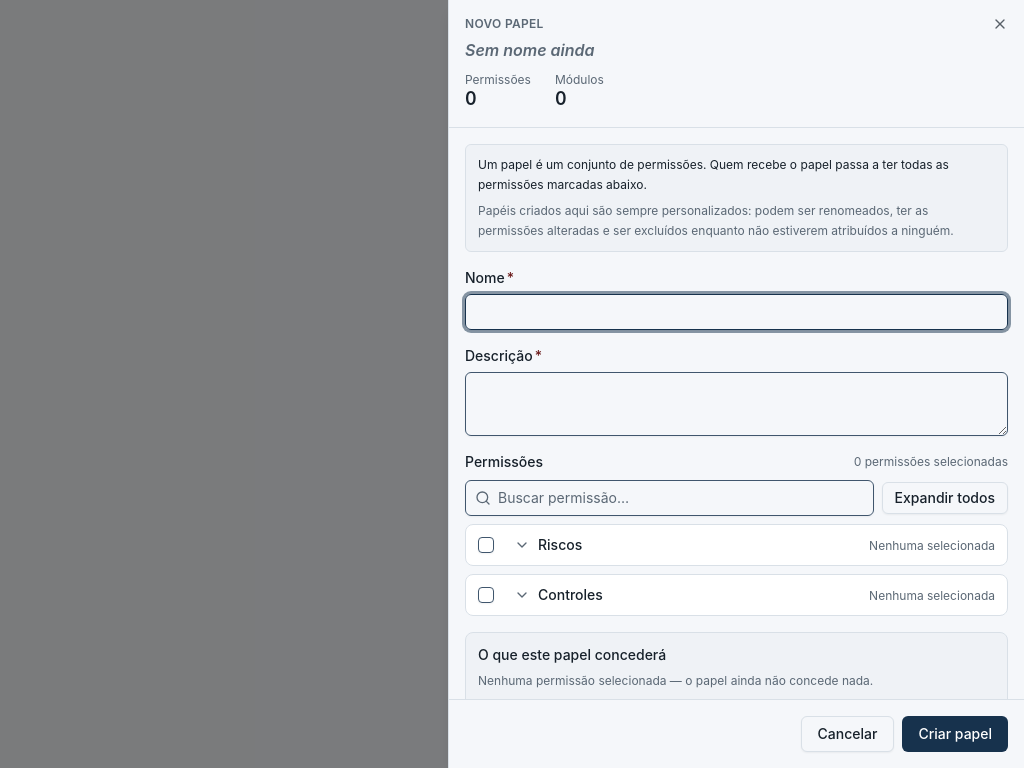
Test case: RoleCreatePanel — submitting › never blames the system-role rule for a 422 on a role that does not exist yet
The width and height of the screenshot is (1024, 768).
expect the button "Riscos Nenhuma selecionada" is shown: met, box [502,524,1007,564]
Type "Leitor de Riscos" into the field labelled "Nome*". click: point(736, 312)
box: [465,294,1008,330]
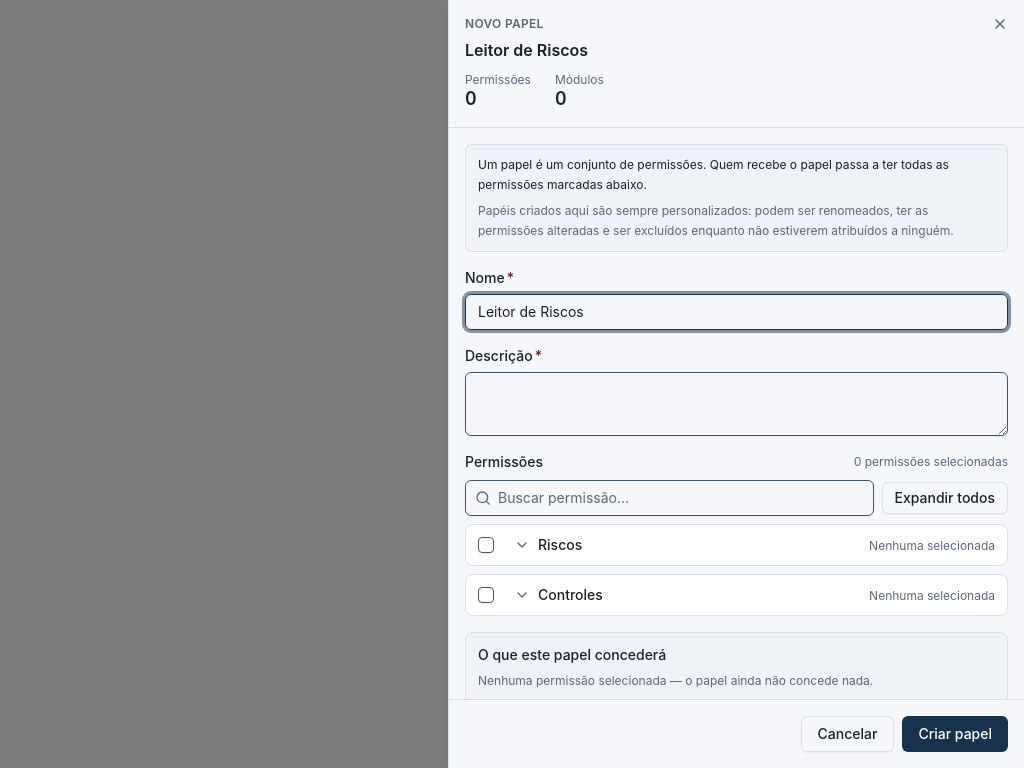
Type "Só leitura de riscos." into the text box labelled "Descrição*". click: point(736, 404)
box: [465,372,1008,436]
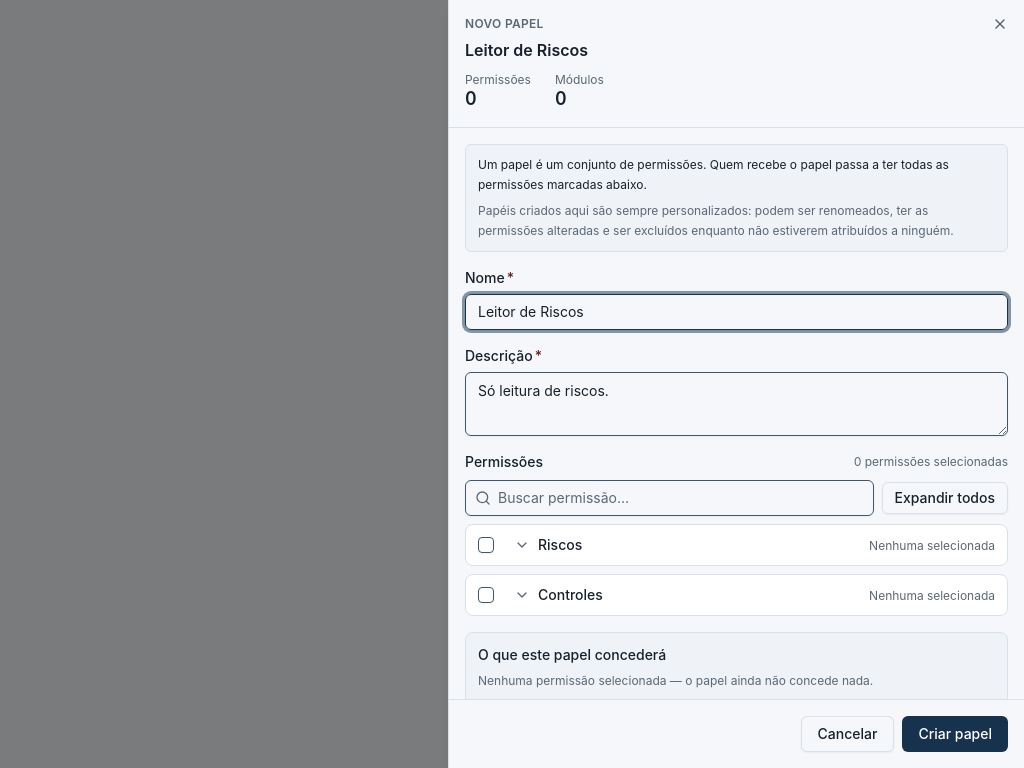
Click the checkbox named "Selecionar todas as permissões de Controles". click: point(486, 594)
box: [478,586,494,602]
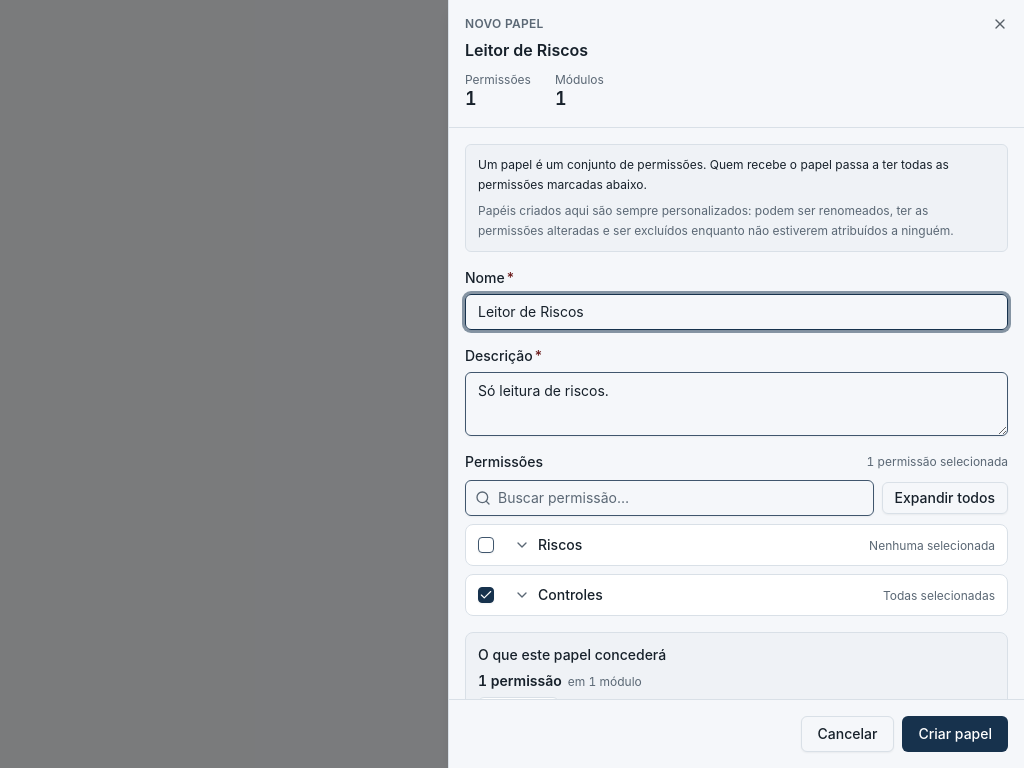
Click the button "Criar papel". click: point(955, 734)
box: [902,716,1008,752]
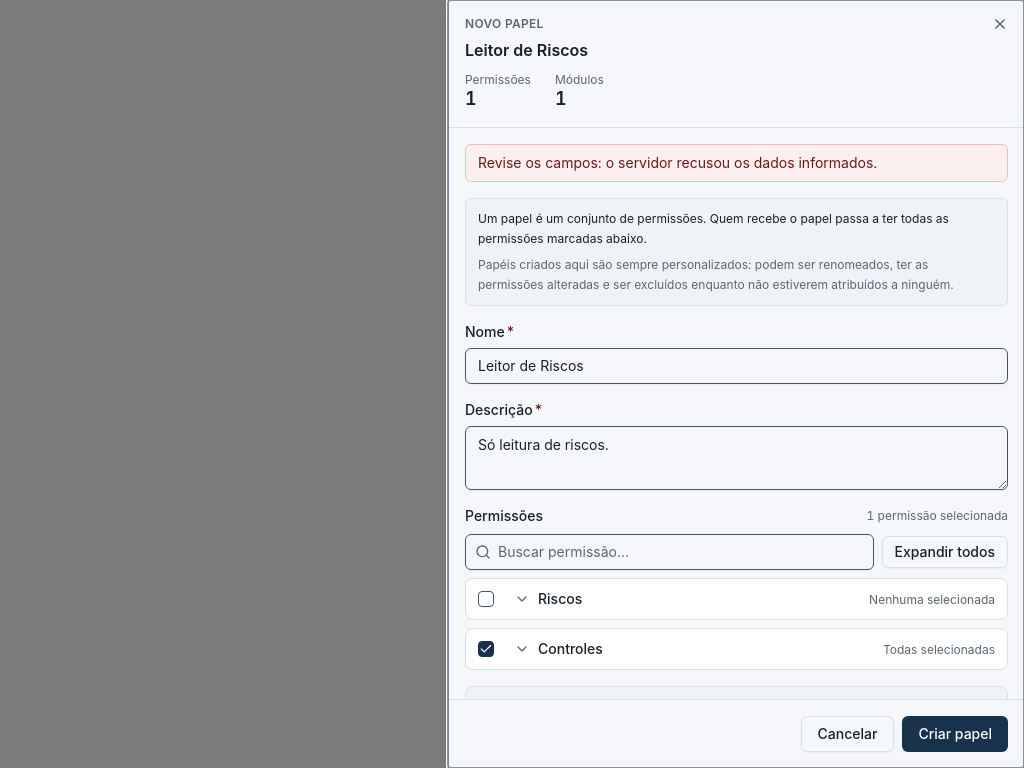
expect the message reads "Revise os campos: o servidor recusou os dados informados.": met, box [478,154,877,170]
